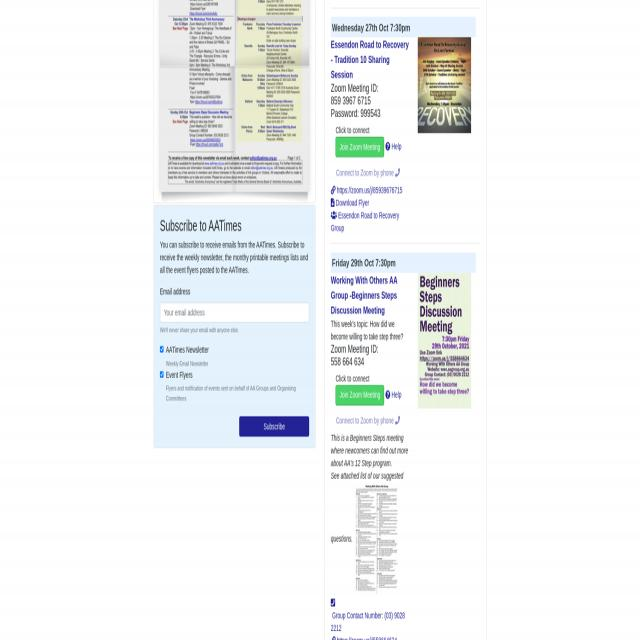button: (162, 0, 308, 190), (418, 272, 471, 408), (418, 37, 471, 134), (239, 416, 309, 437), (336, 137, 384, 157), (336, 385, 384, 405)
field: (160, 302, 309, 323), (160, 346, 164, 354), (160, 371, 163, 379)
